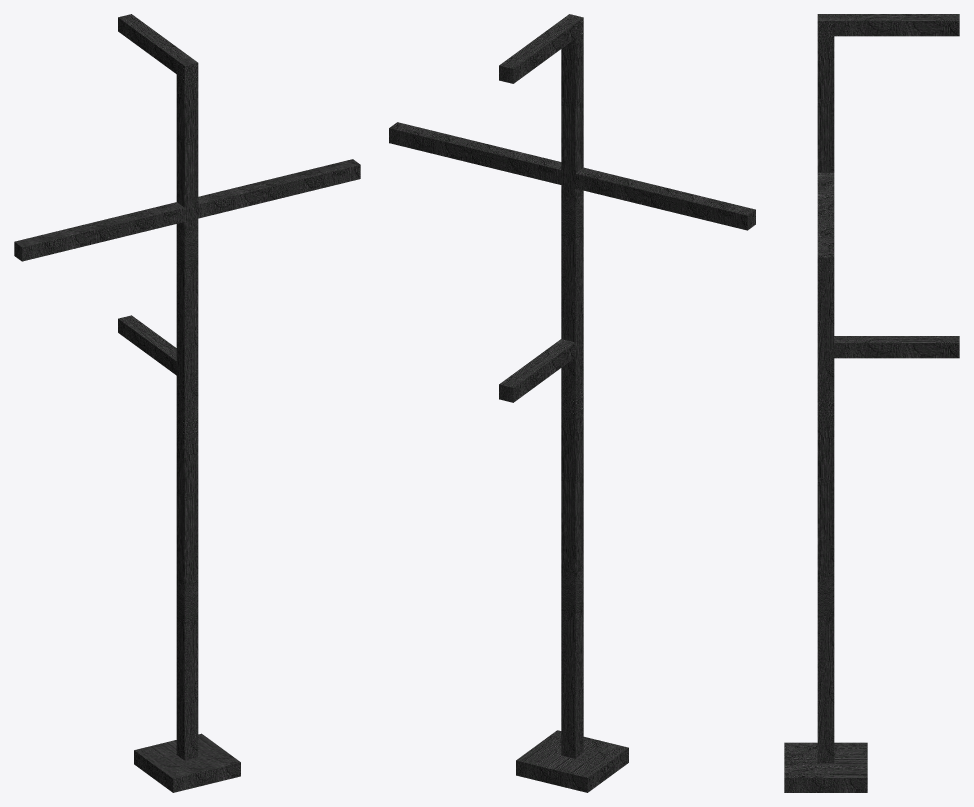
File: WeaponStack.fbx
3 renders of one model, left to right at view 1: azimuth 30°, elevation 25°; view 2: azimuth 150°, elevation 25°; view 3: azimuth 270°, elevation 25°, orthographic. The views are drawn at different scales.
Parts seen in each view (by area): view 1: node_id3; view 2: node_id3; view 3: node_id3.
Part boxes in pixels (x1,y1,x2,y2): node_id3: (14,14,360,792); node_id3: (389,14,755,792); node_id3: (784,14,959,792).
Bounding box in the file's own units: 0.256 × 0.512 × 0.1075.
1 material, 1 textured.
